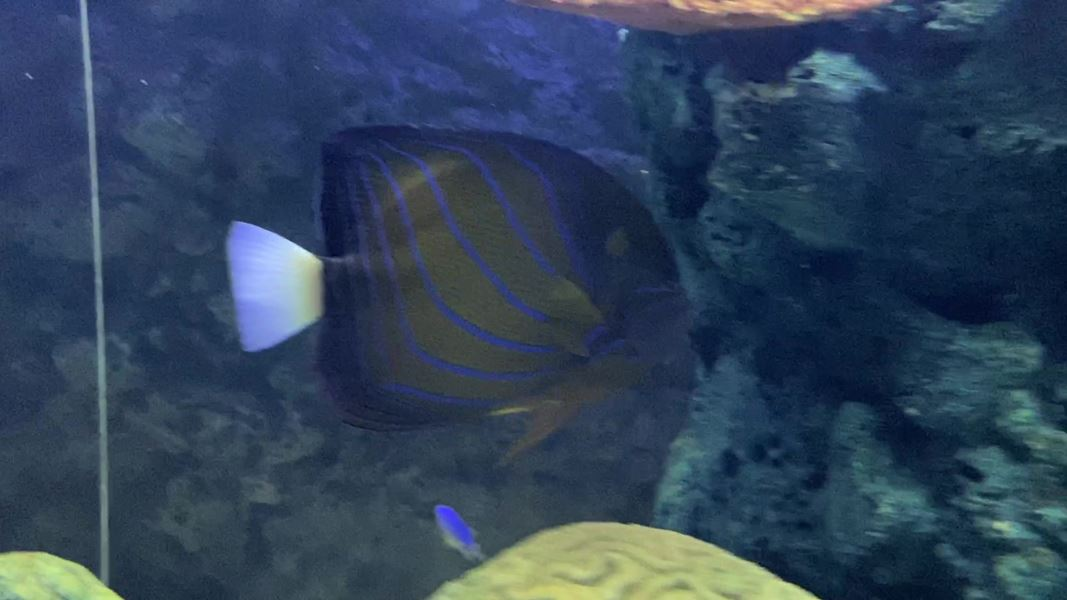Blue ring angelfish: (226, 111, 708, 476)
